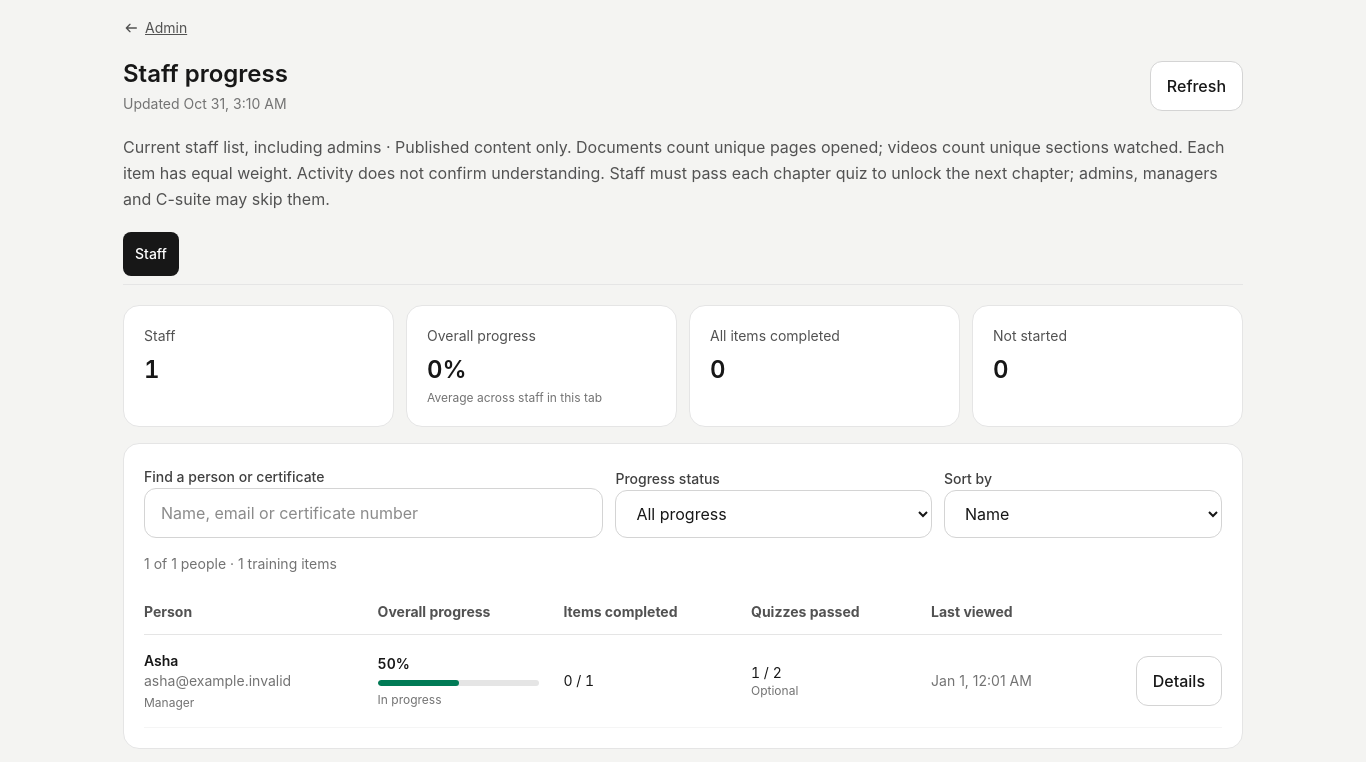
Test: staff progress shows quizzes passed, roles and per-chapter attempts
The width and height of the screenshot is (1366, 762).
Expected: the text "Manager" is shown, [144, 695, 194, 710]
Expected: the text "Optional" is shown, [751, 683, 798, 698]
Click the button with aria-label "View progress for Asha": (1179, 681) [1136, 656, 1222, 706]
(page scrolled)
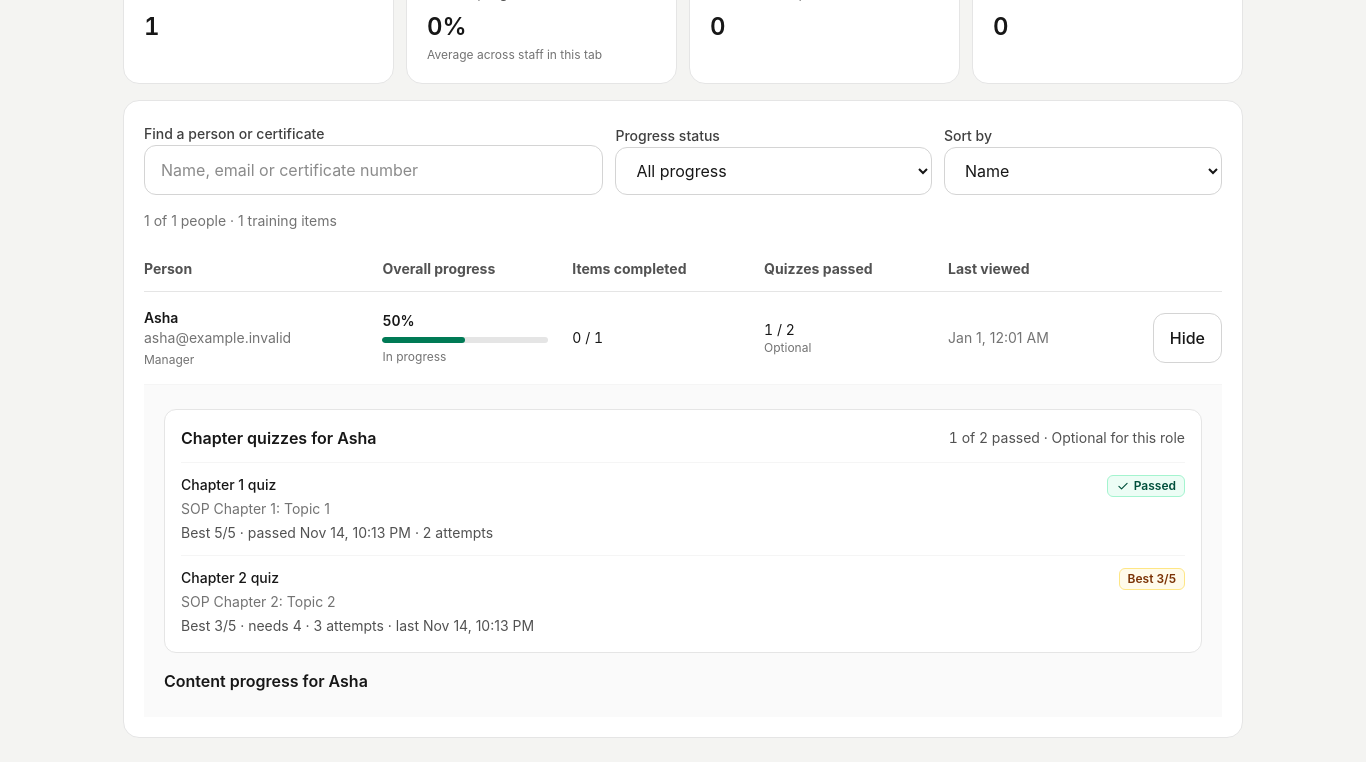
Result: the heading "Chapter quizzes for Asha" is shown at [181, 426, 376, 450]
Result: the text "1 of 2 passed · Optional for this role" is shown at [949, 428, 1185, 448]
Result: the text "Best 5/5 · passed Nov 14, 10:13 PM · 2 attempts" is shown at [181, 524, 493, 541]
